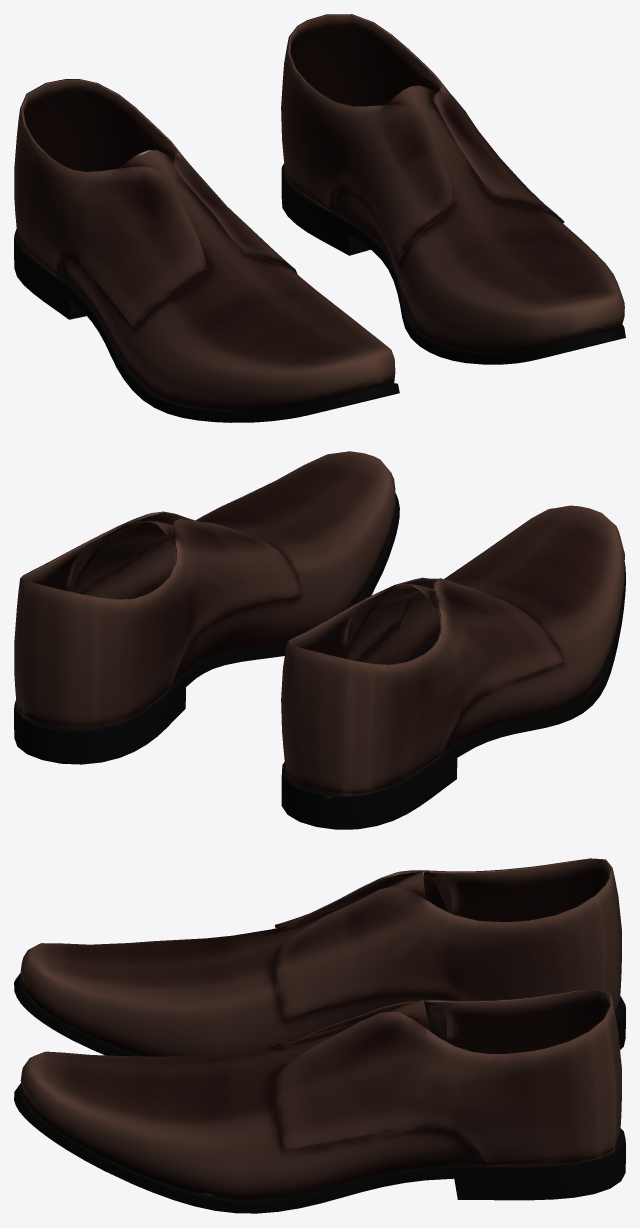
The model's file is FormalShoeM1.fbx.
The picture shows the model from 3 angles, top to bottom: view 1: azimuth 30°, elevation 25°; view 2: azimuth 150°, elevation 25°; view 3: azimuth 270°, elevation 25°; orthographic projection.
Visible parts, largest first — view 1: FormalShoeM1; view 2: FormalShoeM1; view 3: FormalShoeM1.
Part boxes in pixels (box(x1,y1,x2,y2)): FormalShoeM1: box(14, 14, 625, 422); FormalShoeM1: box(14, 451, 625, 829); FormalShoeM1: box(14, 858, 625, 1213).
Bounding box in the file's own units: 23.84 × 8.7 × 28.51.
